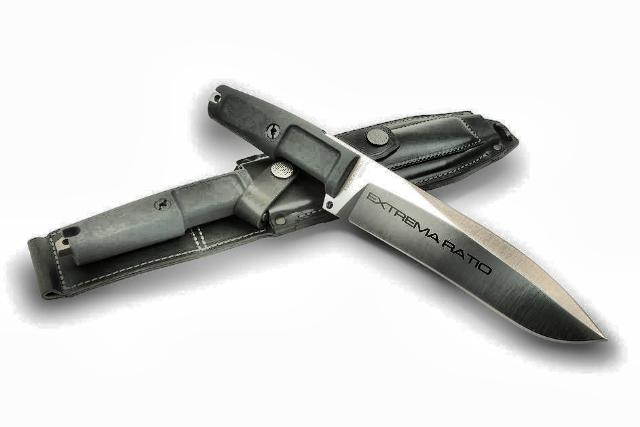knife: (322, 151, 620, 355)
